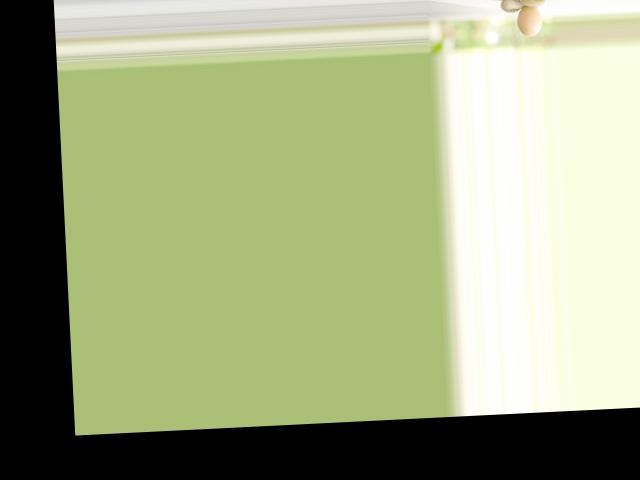egg: (515, 5, 542, 36)
